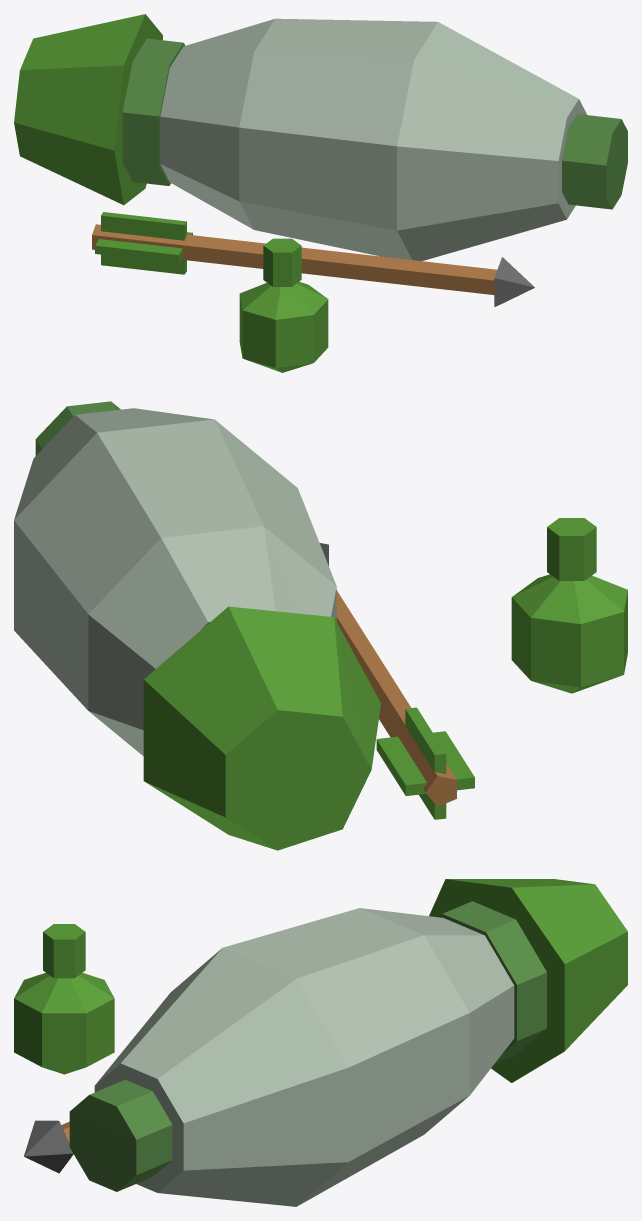
Rendered from ce_ammo2_greatjar_venom_c.obj.
3 views of the same model, one above another, from view 1: azimuth 30°, elevation 25°; view 2: azimuth 150°, elevation 25°; view 3: azimuth 270°, elevation 25° (orthographic). The views are drawn at different scales.
Parts seen in each view (by area): view 1: ce_ammo2_greatjar_venom_c_2, ce_ammo2_greatjar_venom_c_1, ce_ammo2_greatjar_venom_c_5, ce_ammo2_greatjar_venom_c_3, ce_ammo2_greatjar_venom_c_6, ce_ammo2_greatjar_venom_c_10, ce_ammo2_greatjar_venom_c_4, ce_ammo2_greatjar_venom_c_0, ce_ammo2_greatjar_venom_c_9, ce_ammo2_greatjar_venom_c_11, ce_ammo2_greatjar_venom_c_8, ce_ammo2_greatjar_venom_c_7; view 2: ce_ammo2_greatjar_venom_c_5, ce_ammo2_greatjar_venom_c_2, ce_ammo2_greatjar_venom_c_3, ce_ammo2_greatjar_venom_c_10, ce_ammo2_greatjar_venom_c_6, ce_ammo2_greatjar_venom_c_1, ce_ammo2_greatjar_venom_c_11, ce_ammo2_greatjar_venom_c_8, ce_ammo2_greatjar_venom_c_9, ce_ammo2_greatjar_venom_c_0; view 3: ce_ammo2_greatjar_venom_c_1, ce_ammo2_greatjar_venom_c_2, ce_ammo2_greatjar_venom_c_5, ce_ammo2_greatjar_venom_c_0, ce_ammo2_greatjar_venom_c_10, ce_ammo2_greatjar_venom_c_3, ce_ammo2_greatjar_venom_c_4, ce_ammo2_greatjar_venom_c_11, ce_ammo2_greatjar_venom_c_7.
Boxes of the visible parts, bbox=[...] form: ce_ammo2_greatjar_venom_c_2: bbox=[239, 18, 437, 259]; ce_ammo2_greatjar_venom_c_1: bbox=[397, 22, 586, 260]; ce_ammo2_greatjar_venom_c_5: bbox=[14, 14, 162, 205]; ce_ammo2_greatjar_venom_c_3: bbox=[160, 19, 274, 229]; ce_ammo2_greatjar_venom_c_6: bbox=[92, 224, 496, 294]; ce_ammo2_greatjar_venom_c_10: bbox=[239, 281, 328, 372]; ce_ammo2_greatjar_venom_c_4: bbox=[122, 38, 185, 185]; ce_ammo2_greatjar_venom_c_0: bbox=[562, 114, 627, 209]; ce_ammo2_greatjar_venom_c_9: bbox=[101, 212, 186, 274]; ce_ammo2_greatjar_venom_c_11: bbox=[263, 238, 301, 286]; ce_ammo2_greatjar_venom_c_8: bbox=[95, 232, 192, 263]; ce_ammo2_greatjar_venom_c_7: bbox=[494, 257, 534, 306]; ce_ammo2_greatjar_venom_c_5: bbox=[143, 606, 380, 850]; ce_ammo2_greatjar_venom_c_2: bbox=[14, 419, 336, 710]; ce_ammo2_greatjar_venom_c_3: bbox=[88, 526, 336, 755]; ce_ammo2_greatjar_venom_c_10: bbox=[511, 574, 627, 693]; ce_ammo2_greatjar_venom_c_6: bbox=[336, 590, 456, 806]; ce_ammo2_greatjar_venom_c_1: bbox=[14, 408, 213, 519]; ce_ammo2_greatjar_venom_c_11: bbox=[547, 518, 596, 580]; ce_ammo2_greatjar_venom_c_8: bbox=[376, 731, 474, 795]; ce_ammo2_greatjar_venom_c_9: bbox=[405, 707, 446, 819]; ce_ammo2_greatjar_venom_c_0: bbox=[35, 401, 120, 455]; ce_ammo2_greatjar_venom_c_1: bbox=[94, 948, 348, 1206]; ce_ammo2_greatjar_venom_c_2: bbox=[223, 908, 469, 1206]; ce_ammo2_greatjar_venom_c_5: bbox=[429, 879, 627, 1082]; ce_ammo2_greatjar_venom_c_0: bbox=[69, 1079, 172, 1191]; ce_ammo2_greatjar_venom_c_10: bbox=[14, 972, 114, 1074]; ce_ammo2_greatjar_venom_c_3: bbox=[360, 908, 514, 1095]; ce_ammo2_greatjar_venom_c_4: bbox=[438, 901, 546, 1063]; ce_ammo2_greatjar_venom_c_11: bbox=[43, 924, 85, 978]; ce_ammo2_greatjar_venom_c_7: bbox=[24, 1120, 73, 1173].
Bounding box in the file's own units: 0.6615 × 0.3078 × 0.7212.
